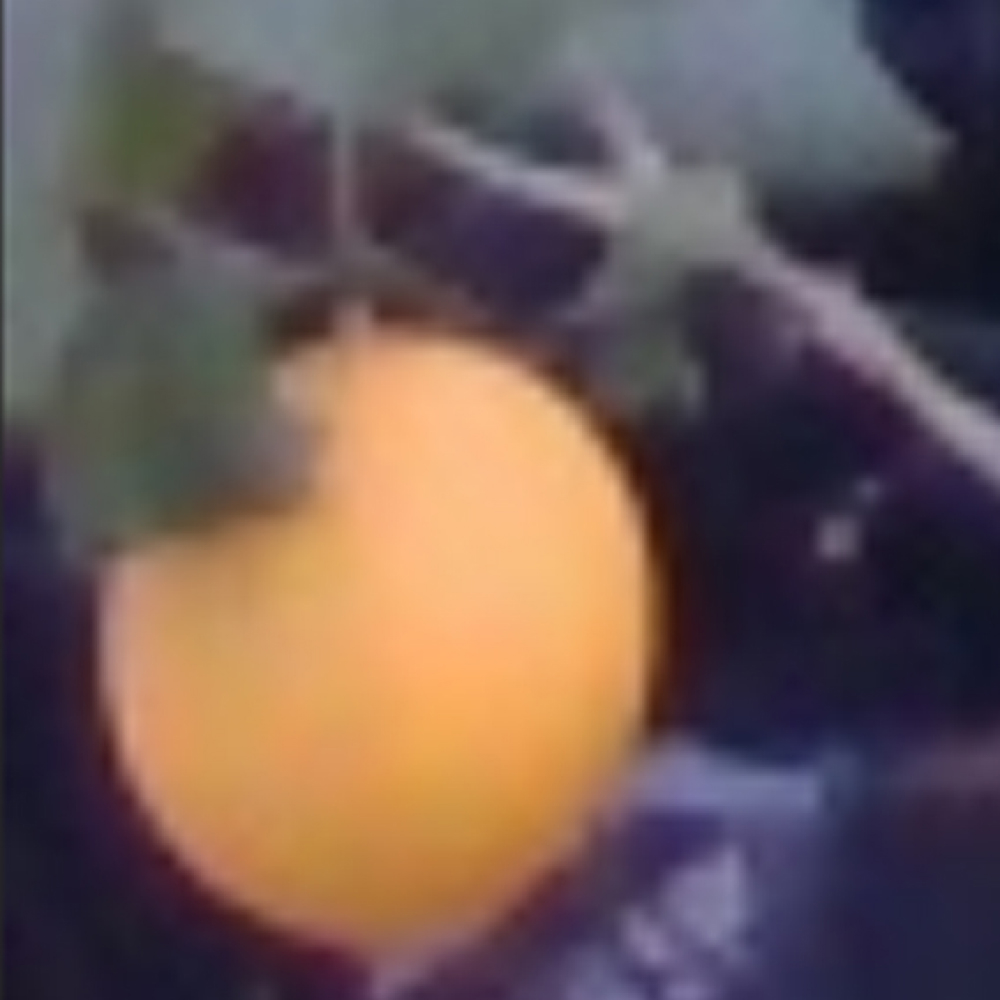melon: (85, 320, 665, 954)
